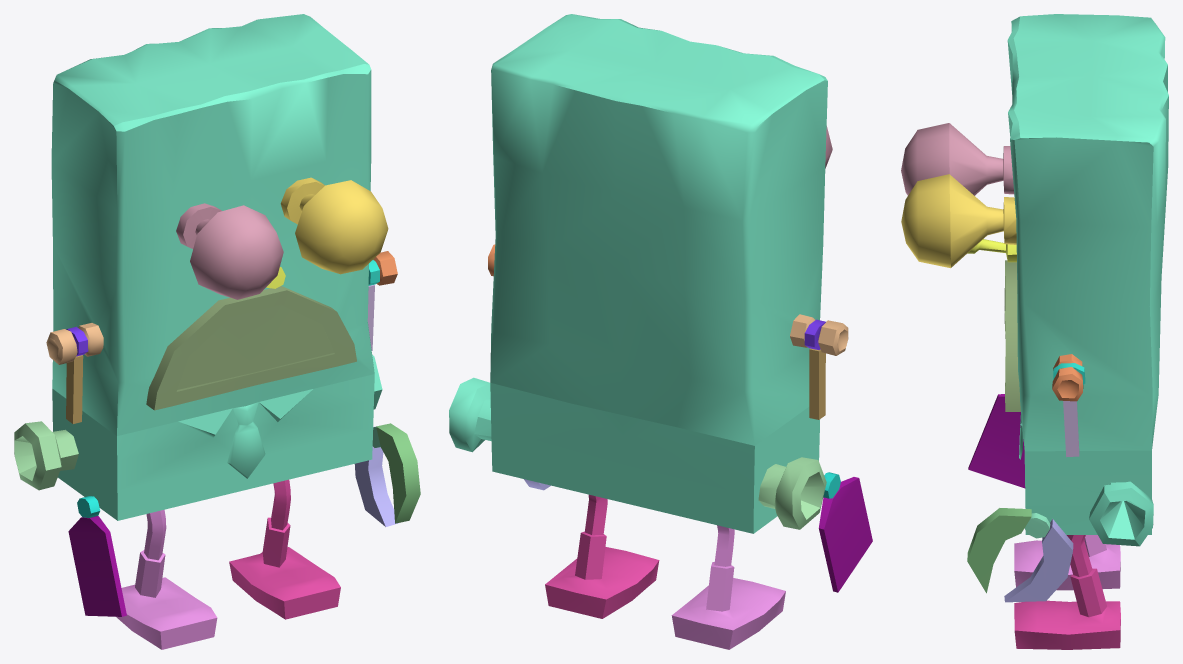
The picture shows the model from 3 angles, left to right: view 1: azimuth 30°, elevation 25°; view 2: azimuth 150°, elevation 25°; view 3: azimuth 270°, elevation 25°; orthographic projection. The views are drawn at different scales.
Visible parts, largest first — view 1: split_parent_11, Object_2.042, Object_2.002, Object_2.001, split_parent_12, split_parent_14, Object_2.049, Object_2.020, Object_2.091, Object_2.089, Object_2.097, Object_2.073 (+1 smaller); view 2: split_parent_11, split_parent_12, split_parent_14, Object_2.049, Object_2.020, Object_2.097, Object_2.073; view 3: split_parent_11, Object_2.002, split_parent_12, Object_2.001, Object_2.049, Object_2.089, split_parent_14, Object_2.091, Object_2.042, Object_2.066, Object_2.052, Object_2.012 (+1 smaller).
Part boxes in pixels (x1,y1,x2,y2): split_parent_11: (51, 14, 382, 520); Object_2.042: (146, 286, 356, 410); Object_2.002: (280, 177, 388, 274); Object_2.001: (176, 203, 283, 299); split_parent_12: (229, 479, 340, 619); split_parent_14: (116, 509, 217, 649); Object_2.049: (68, 516, 126, 616); Object_2.020: (14, 421, 78, 490); Object_2.091: (376, 423, 420, 523); Object_2.089: (354, 426, 398, 526); Object_2.097: (46, 323, 103, 364); Object_2.073: (66, 355, 83, 423); split_parent_11: (449, 14, 827, 533); split_parent_12: (545, 494, 659, 618); split_parent_14: (671, 525, 785, 649); Object_2.049: (818, 477, 872, 592); Object_2.020: (758, 457, 826, 529); Object_2.097: (790, 314, 848, 355); Object_2.073: (809, 348, 825, 419); split_parent_11: (1007, 14, 1168, 546); Object_2.002: (901, 174, 1016, 268); split_parent_12: (1014, 535, 1120, 649); Object_2.001: (901, 123, 1014, 195); Object_2.049: (968, 394, 1025, 488); Object_2.089: (1004, 519, 1073, 602); split_parent_14: (1014, 535, 1120, 590); Object_2.091: (967, 508, 1031, 593); Object_2.042: (1004, 260, 1020, 411); Object_2.066: (1052, 354, 1083, 401); Object_2.052: (1063, 401, 1079, 457); Object_2.012: (967, 239, 1016, 262).
Bounding box in the file's own units: 0.6711 × 1 × 0.4562.
